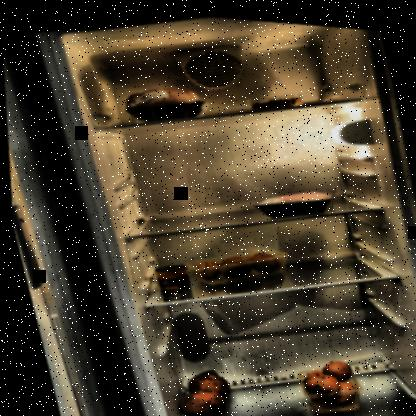chicken: (115, 72, 213, 130)
corn: (150, 258, 190, 293)
ground_beef: (248, 176, 340, 221)
onion: (289, 348, 364, 414)
potato: (186, 238, 287, 285)
shrimp: (249, 87, 301, 110)
sweet_potato: (163, 355, 237, 415)
